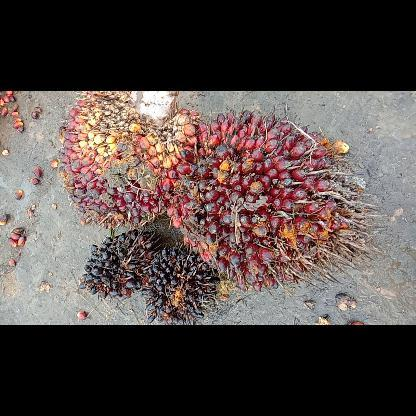TBS abnormal: (140, 240, 223, 324), (78, 225, 168, 299)
TBS masak: (161, 108, 379, 294), (54, 91, 204, 230)
